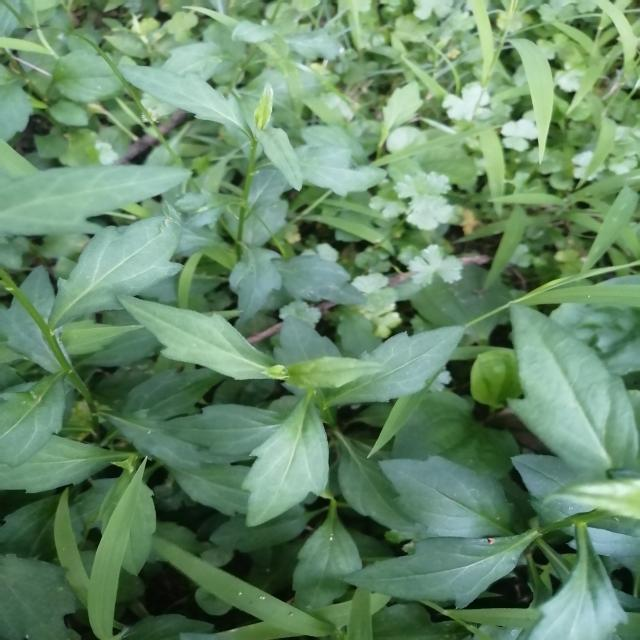Indian aster: (143, 291, 451, 543), (149, 66, 341, 259)
